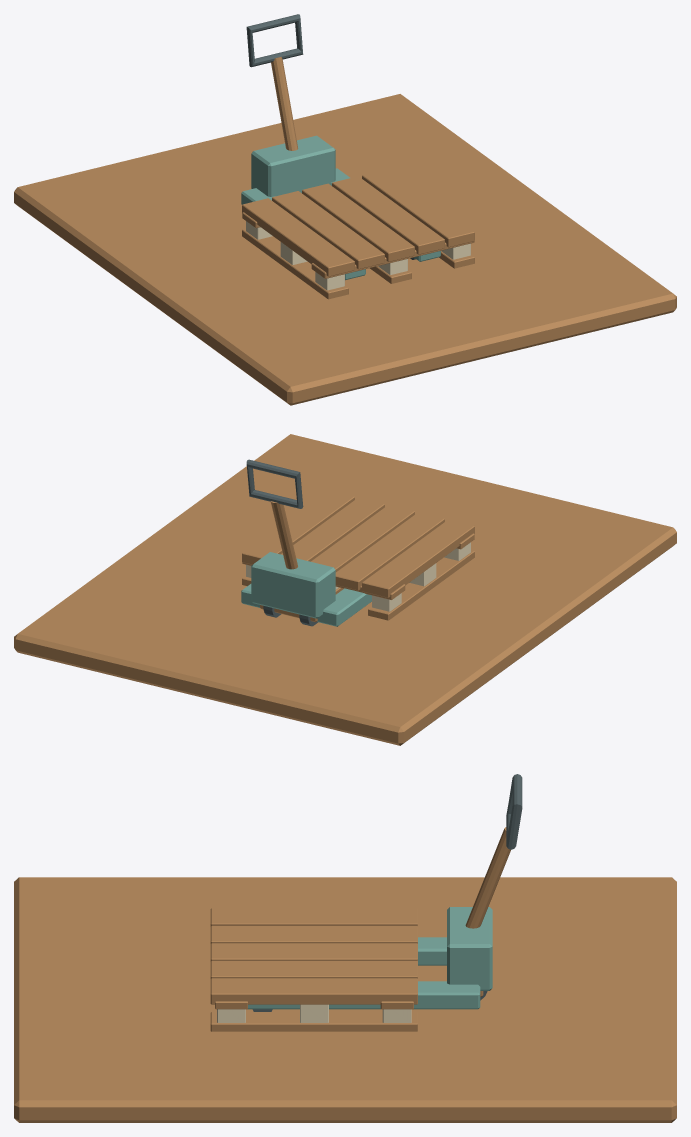
3 renders of one model, top to bottom at view 1: azimuth 30°, elevation 25°; view 2: azimuth 150°, elevation 25°; view 3: azimuth 270°, elevation 25°, orthographic. The views are drawn at different scales.
Visible parts, largest first — view 1: logistics-loading-corner-scene-01; view 2: logistics-loading-corner-scene-01; view 3: logistics-loading-corner-scene-01.
Part boxes in pixels (box(x1,y1,x2,y2)): logistics-loading-corner-scene-01: box(14, 14, 676, 405); logistics-loading-corner-scene-01: box(14, 434, 676, 745); logistics-loading-corner-scene-01: box(14, 774, 676, 1122).
Size of the model in its own units: 2.6 by 1.18 by 3.2.
